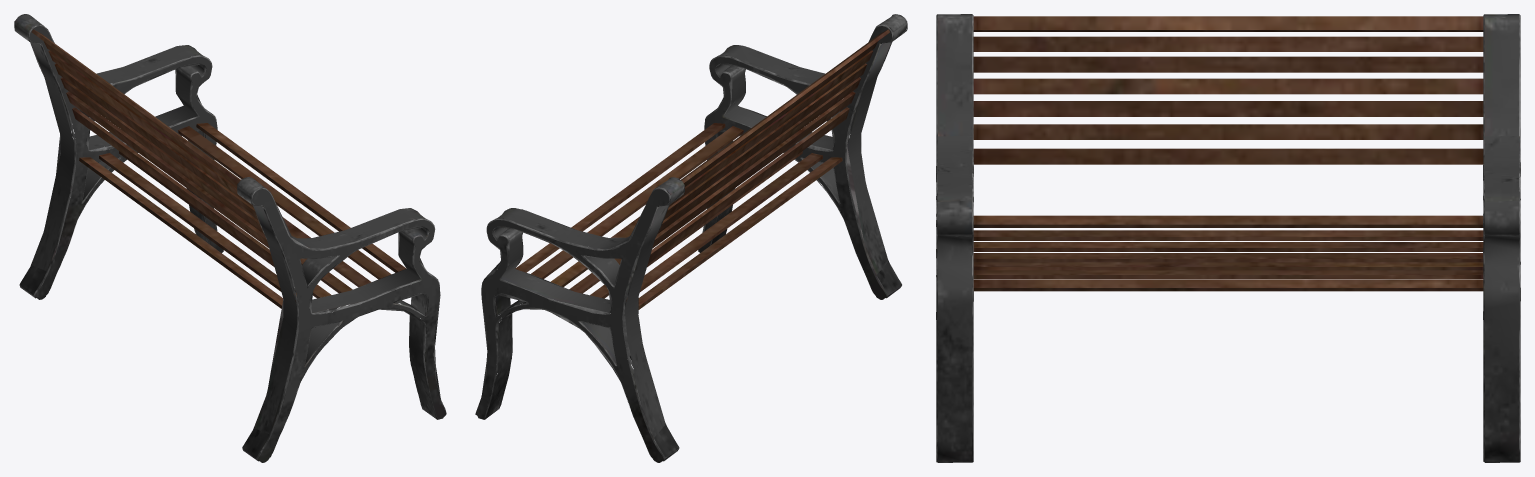
The model's file is p_bench_aged.glb.
The picture shows the model from 3 angles, left to right: view 1: azimuth 30°, elevation 25°; view 2: azimuth 150°, elevation 25°; view 3: azimuth 270°, elevation 25°; orthographic projection. The views are drawn at different scales.
Visible parts, largest first — view 1: Cube.013; view 2: Cube.013; view 3: Cube.013.
Boxes of the visible parts, left/top/right/bottom form: Cube.013: left=14, top=14, right=446, bottom=462; Cube.013: left=475, top=14, right=907, bottom=462; Cube.013: left=936, top=14, right=1520, bottom=462.
Size of the model in its own units: 1654 by 2232 by 3491.
Materials: 1 (1 with a texture image).
